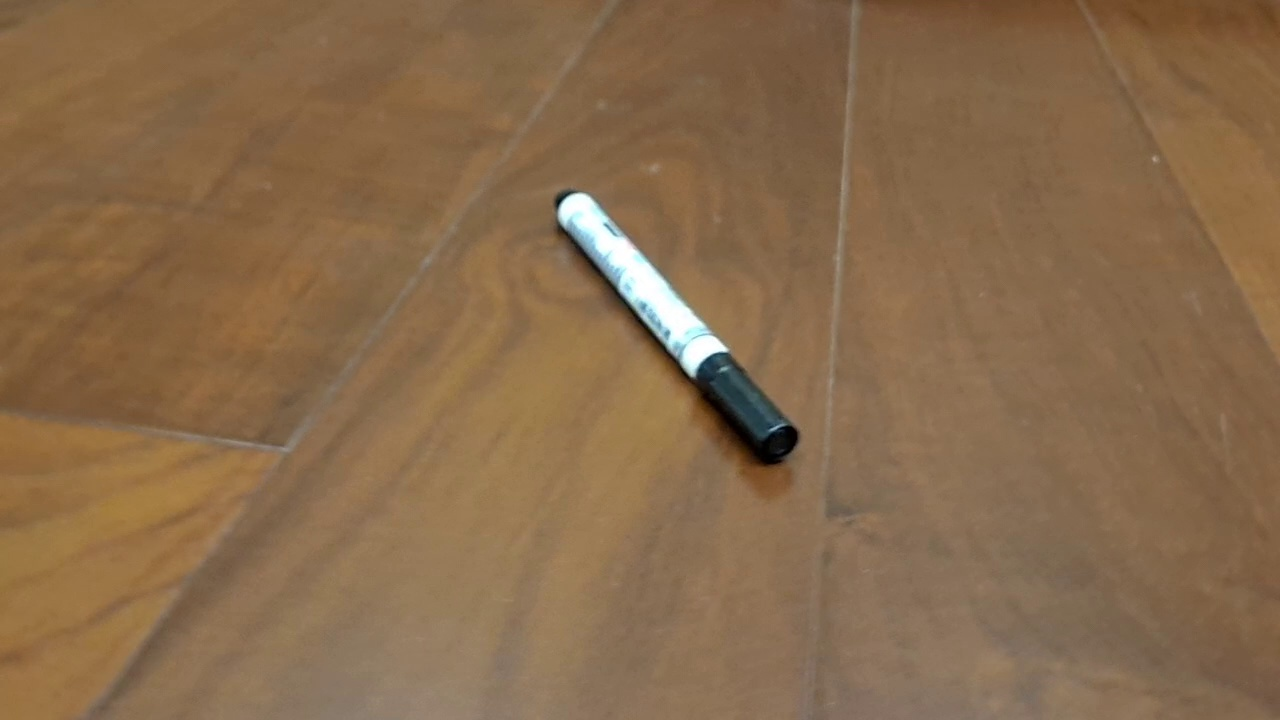pen: (553, 187, 800, 465)
